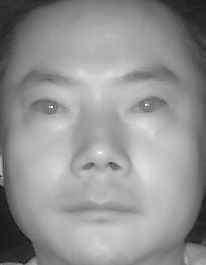eye: (28, 94, 73, 121), (127, 92, 169, 117)
mouth: (57, 187, 140, 232)
